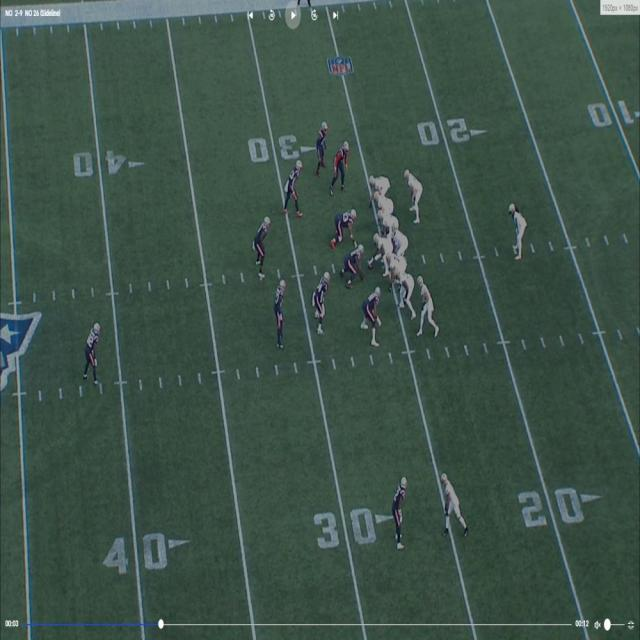center: (371, 232, 389, 272)
db: (392, 475, 409, 548), (84, 322, 100, 382), (316, 120, 331, 168), (277, 276, 288, 340)
lb: (253, 215, 270, 275), (286, 160, 304, 215), (333, 138, 349, 192), (316, 274, 330, 334)
qb: (393, 222, 408, 253)
skill: (439, 473, 460, 531), (509, 204, 525, 258), (407, 169, 421, 226), (418, 275, 432, 330), (368, 175, 390, 190)
